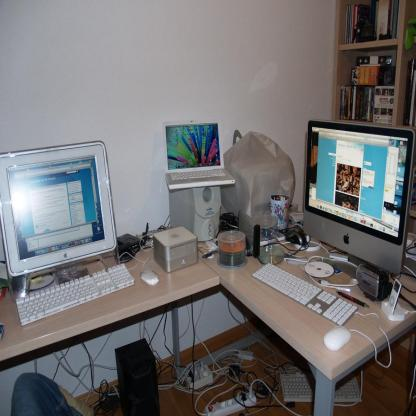board: (0, 138, 128, 325), (161, 116, 235, 192)
